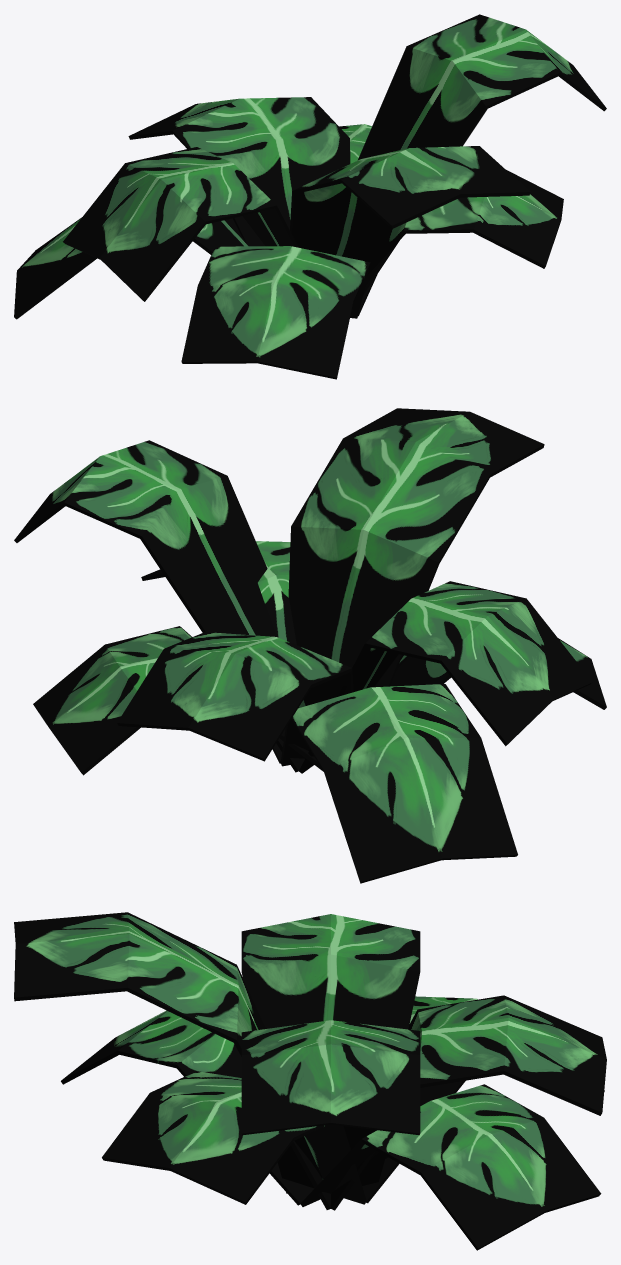
Rendered from MonsteraPlant1.fbx.
3 renders of one model, top to bottom at view 1: azimuth 30°, elevation 25°; view 2: azimuth 150°, elevation 25°; view 3: azimuth 270°, elevation 25°, orthographic. The views are drawn at different scales.
Visible parts, largest first — view 1: MonsteraPlant1; view 2: MonsteraPlant1; view 3: MonsteraPlant1.
Part boxes in pixels (x1,y1,x2,y2): MonsteraPlant1: [14, 14, 606, 379]; MonsteraPlant1: [14, 408, 606, 883]; MonsteraPlant1: [14, 912, 606, 1250].
Bounding box in the file's own units: 1.44 × 0.6437 × 1.32.
